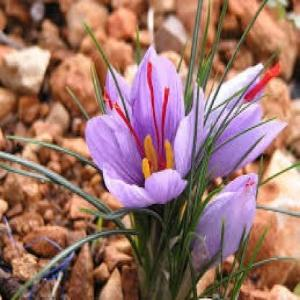Saffron: (87, 48, 191, 203), (186, 172, 262, 278)
